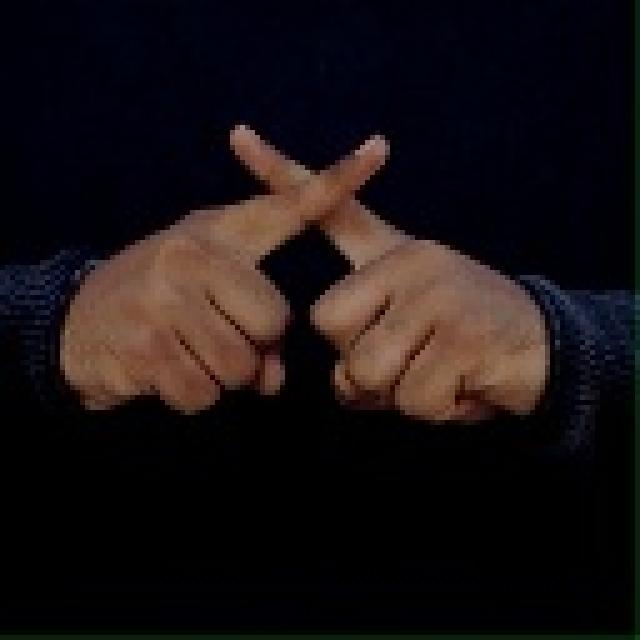Alphabet-X: (52, 108, 556, 497)
